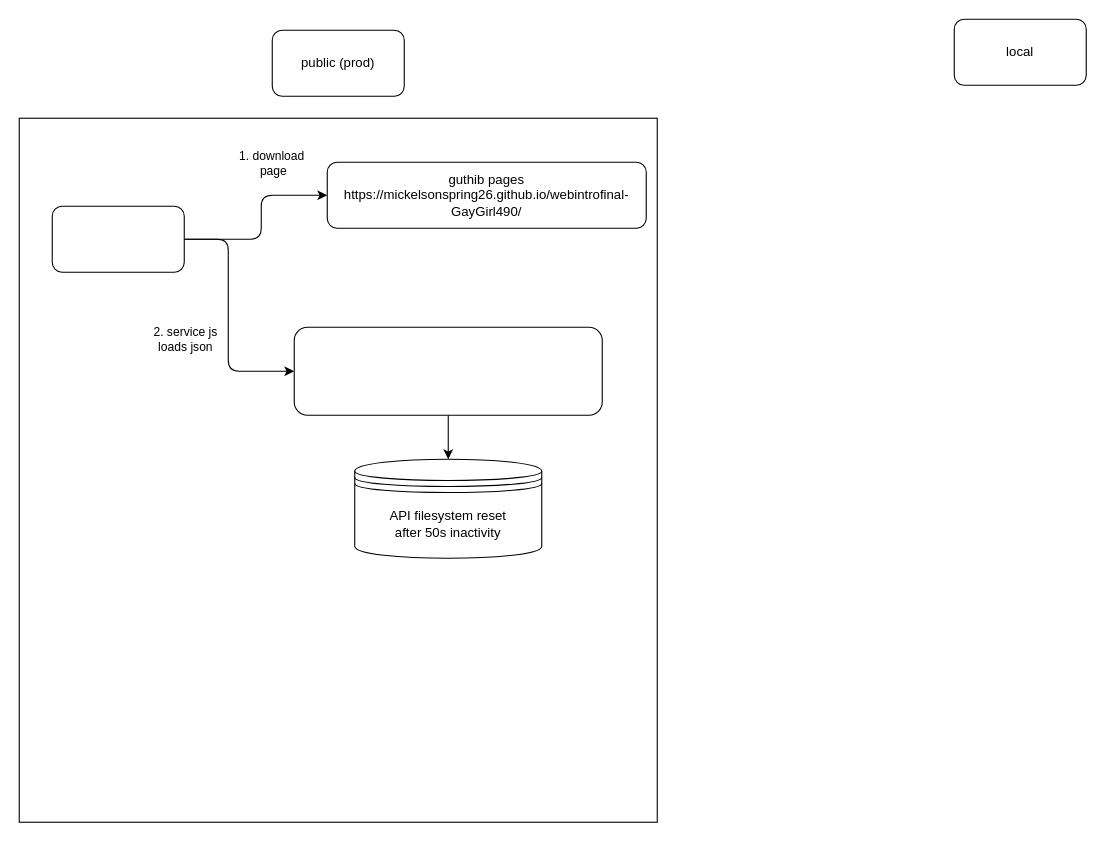
The diagram is 1106 pixels wide and 842 high, and some of its shapes have lost their labels. The shapes that lost their labels are listed below. From the top down, each one's centre as x and y in pixels, then its label:
pixel 117 238: user browser
pixel 447 370: API on render.com https://webintrofinal-gaygirl490.onrender.com/
